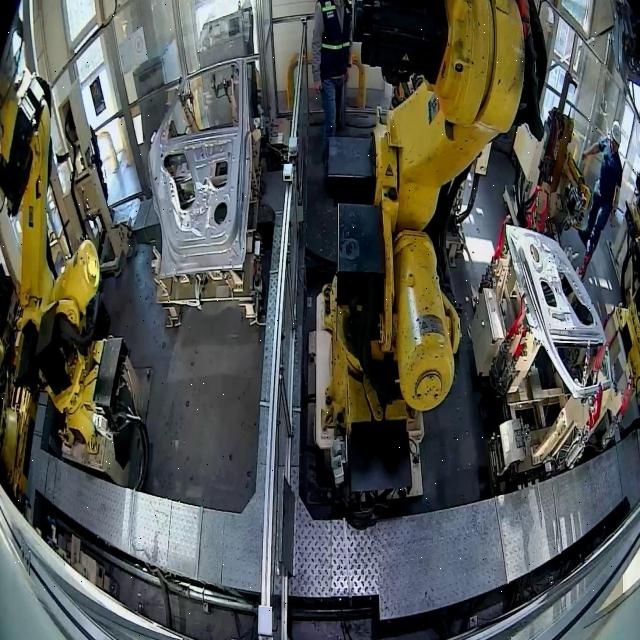Person: (574, 120, 622, 282), (311, 0, 353, 168)
